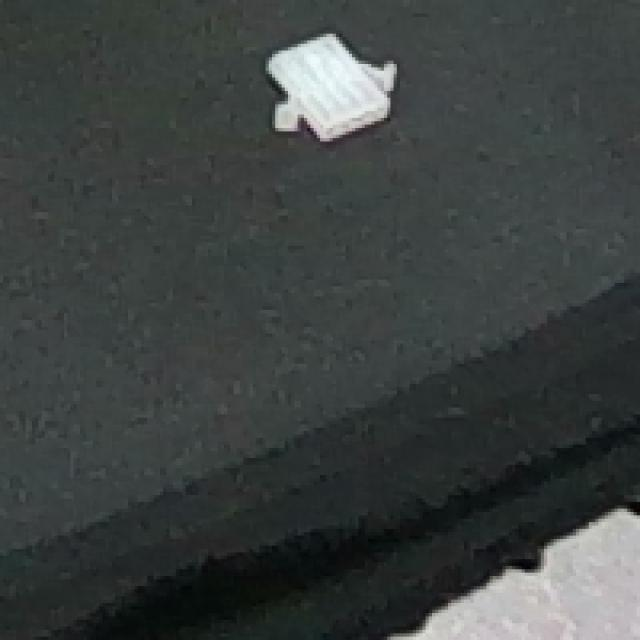pick: (243, 16, 412, 155), (0, 121, 3, 253)
